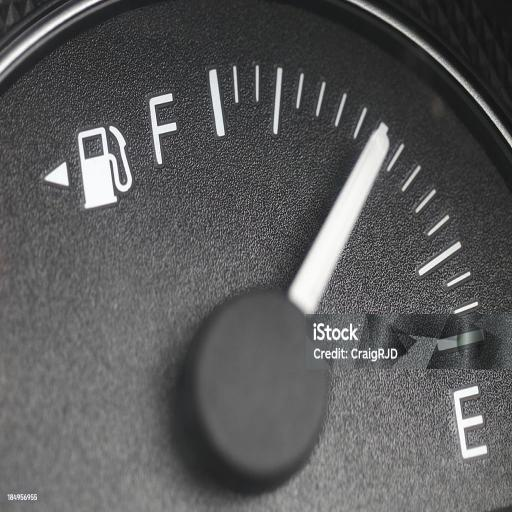empty: (454, 383, 489, 459)
fuel_icon: (67, 120, 134, 210)
full: (149, 88, 178, 171)
guage_area: (68, 52, 493, 512)
needle_center: (180, 288, 339, 492)
needle_tip: (365, 118, 397, 173)
